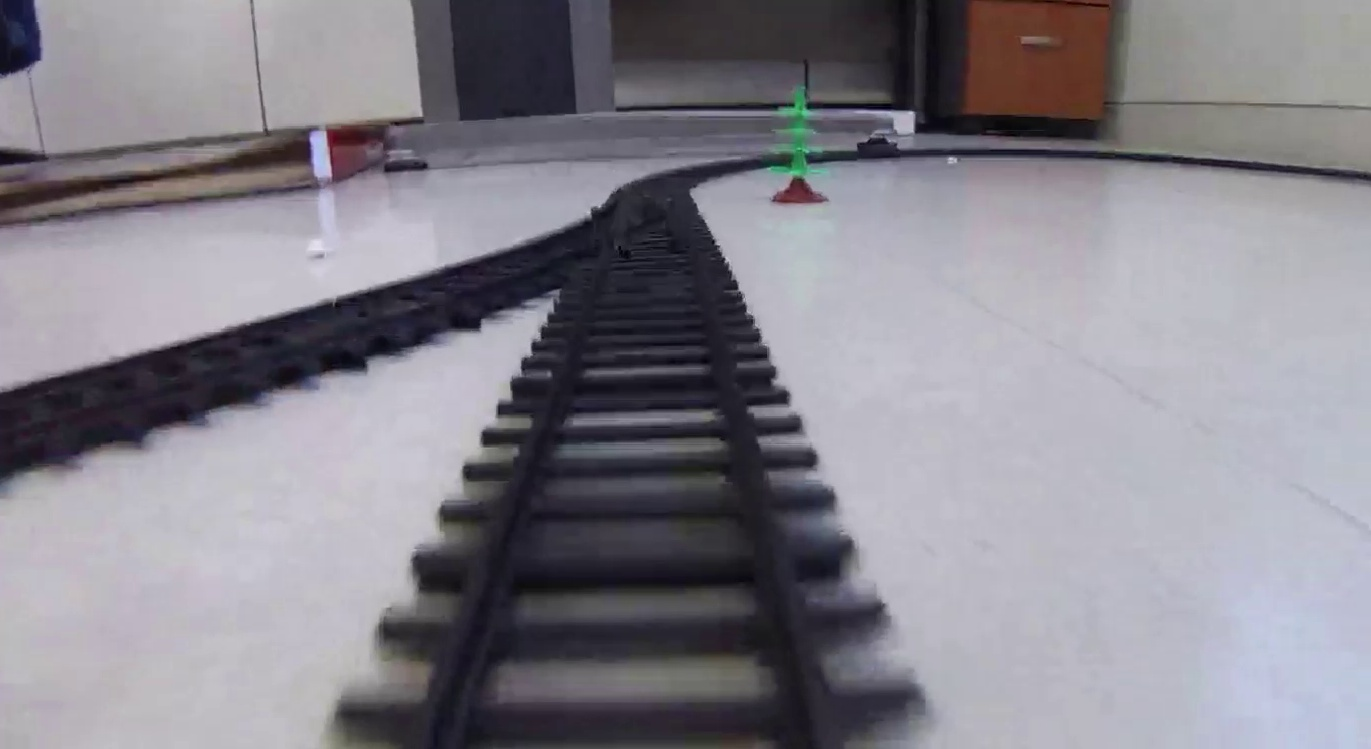tree: (765, 87, 831, 208)
